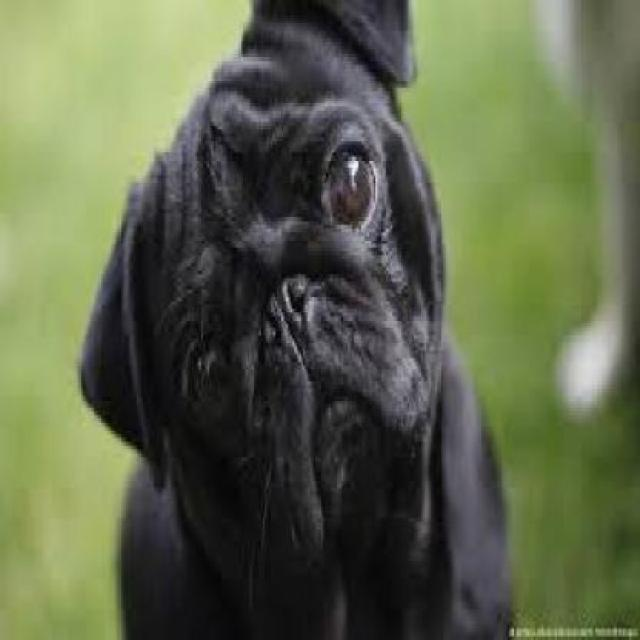animals: (32, 3, 519, 640)
